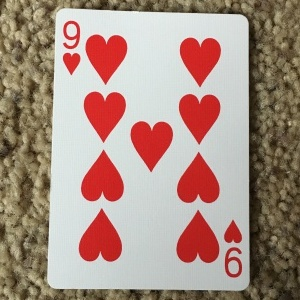card: (47, 7, 252, 293)
